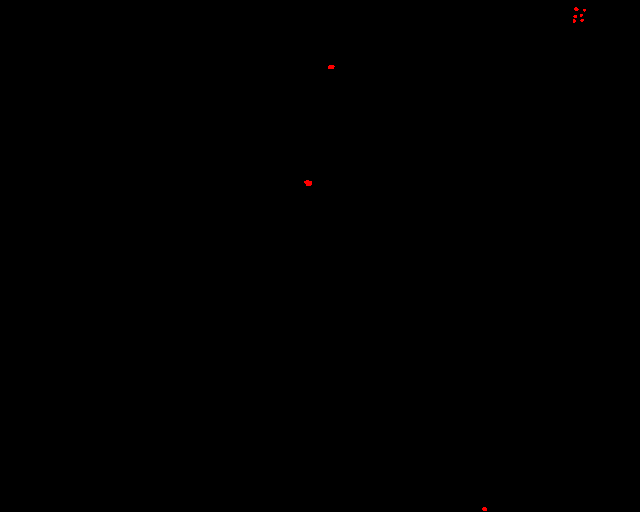Target: (304, 180, 312, 186), (328, 65, 335, 69), (574, 7, 579, 11), (482, 507, 487, 511), (573, 15, 577, 18), (573, 19, 576, 23), (580, 19, 584, 22), (583, 9, 586, 12), (580, 14, 583, 17)
